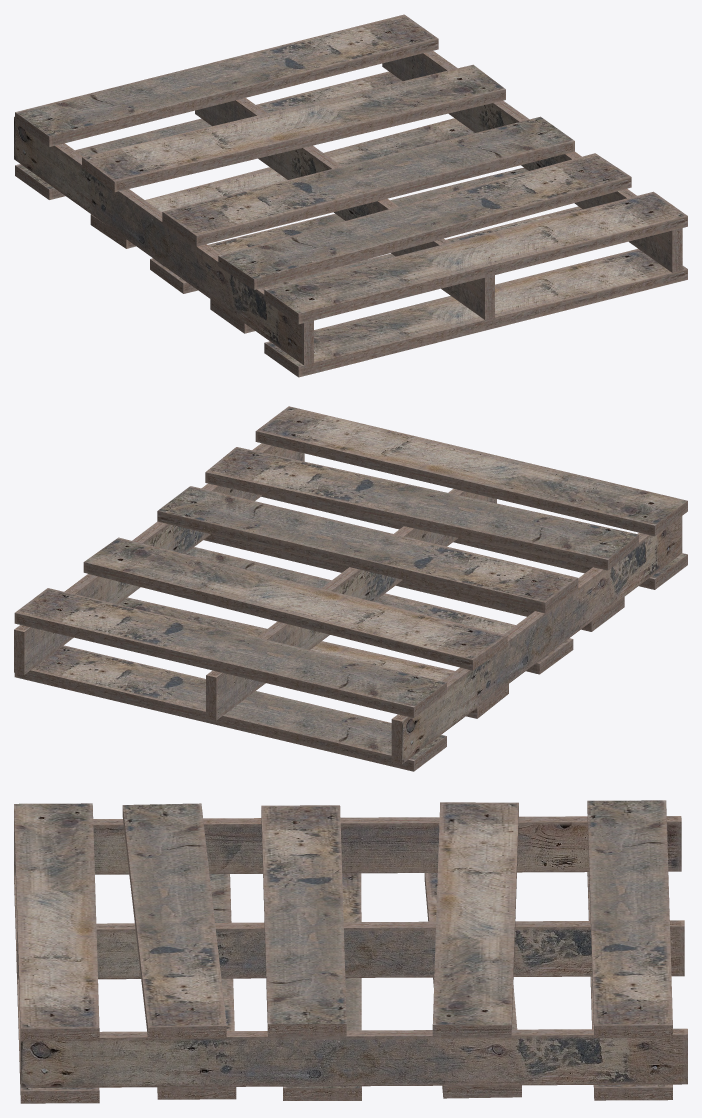
Rendered from Palet_v1_single (2).glb.
3 views of the same model, one above another, from view 1: azimuth 30°, elevation 25°; view 2: azimuth 150°, elevation 25°; view 3: azimuth 270°, elevation 25° (orthographic). The views are drawn at different scales.
Parts seen in each view (by area): view 1: Palet_v1_single (2); view 2: Palet_v1_single (2); view 3: Palet_v1_single (2).
Part boxes in pixels (x1,y1,x2,y2): Palet_v1_single (2): (14,14,687,377); Palet_v1_single (2): (14,406,687,771); Palet_v1_single (2): (14,800,687,1103).
Bounding box in the file's own units: 1.42 × 0.2164 × 1.77.
Materials: 1 (1 with a texture image).
